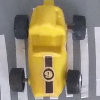carro: (14, 2, 82, 95)
